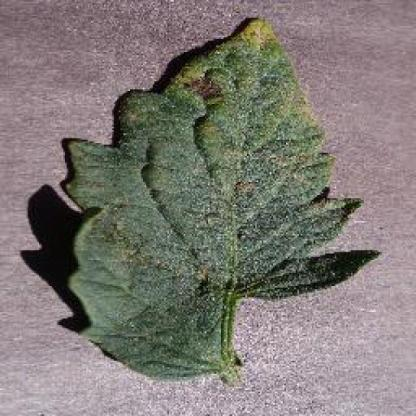Tomato_Blight: (63, 18, 364, 358)
